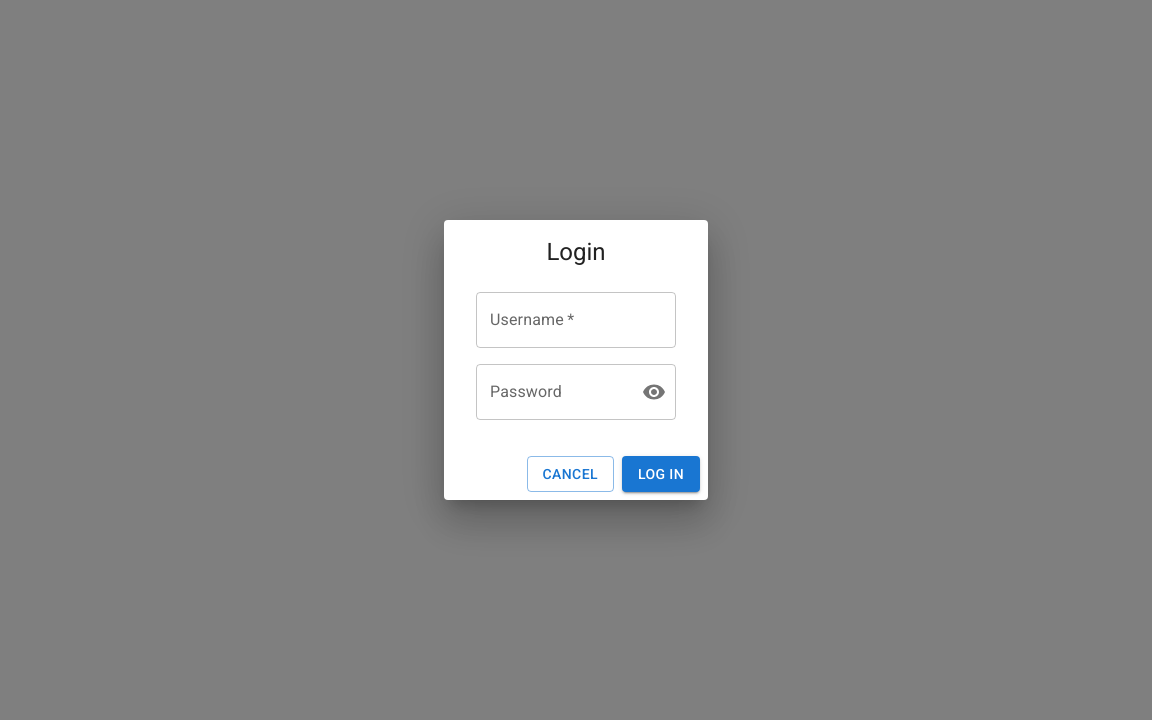
Test case: when visibility icon clicked, no password input
Expected: the heading "Login" is shown, [546, 236, 606, 268]
Expected: the icon with test id "VisibilityIcon" is shown, [642, 380, 666, 404]
Click the button with test id "VisibilityIcon" at (654, 392), box [634, 372, 674, 412]
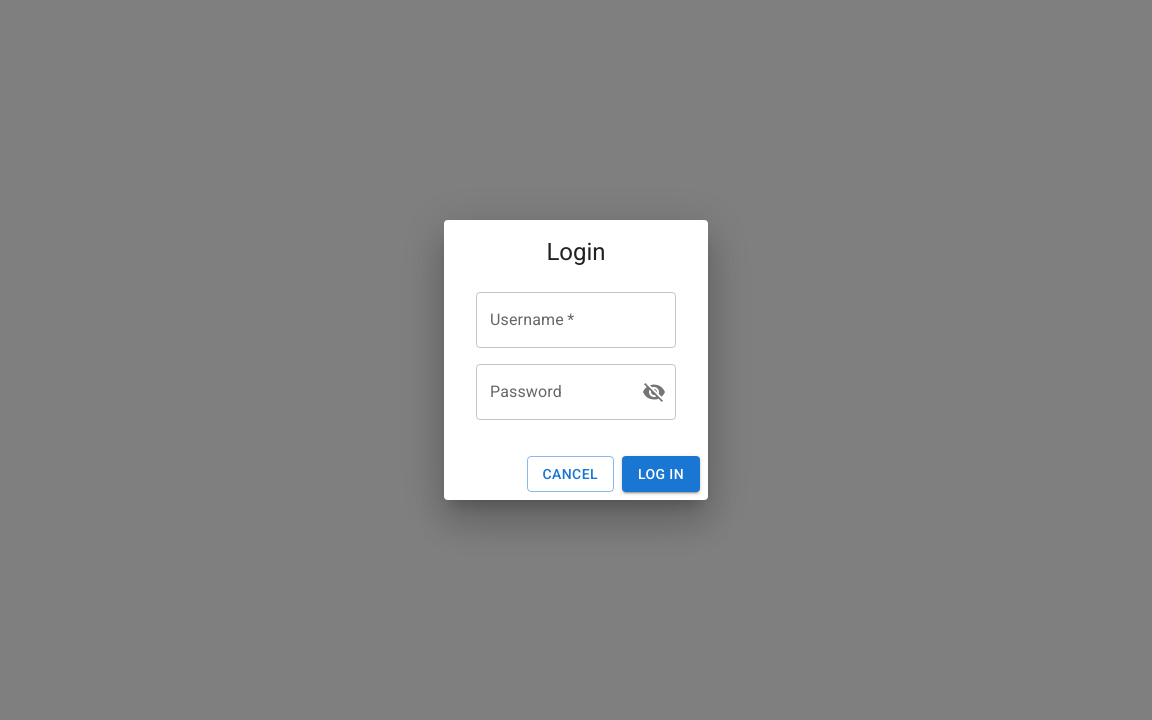
Result: the icon with test id "VisibilityOffIcon" is shown at [642, 380, 666, 404]
